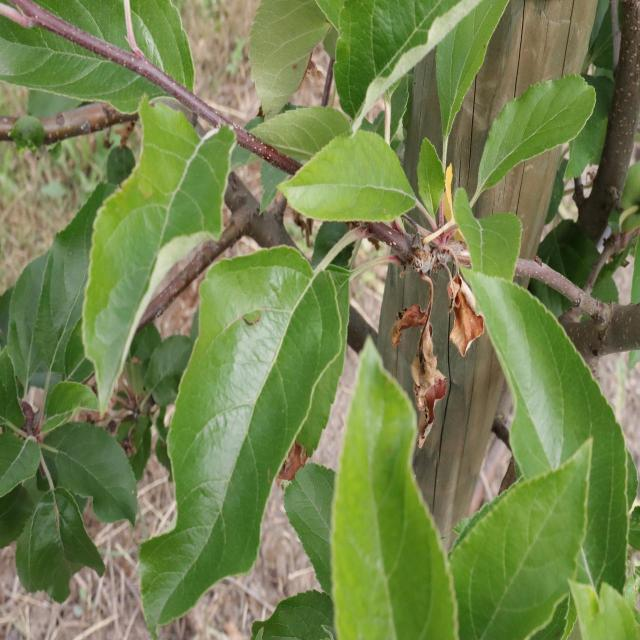-FireBlight-: (385, 247, 491, 455)
